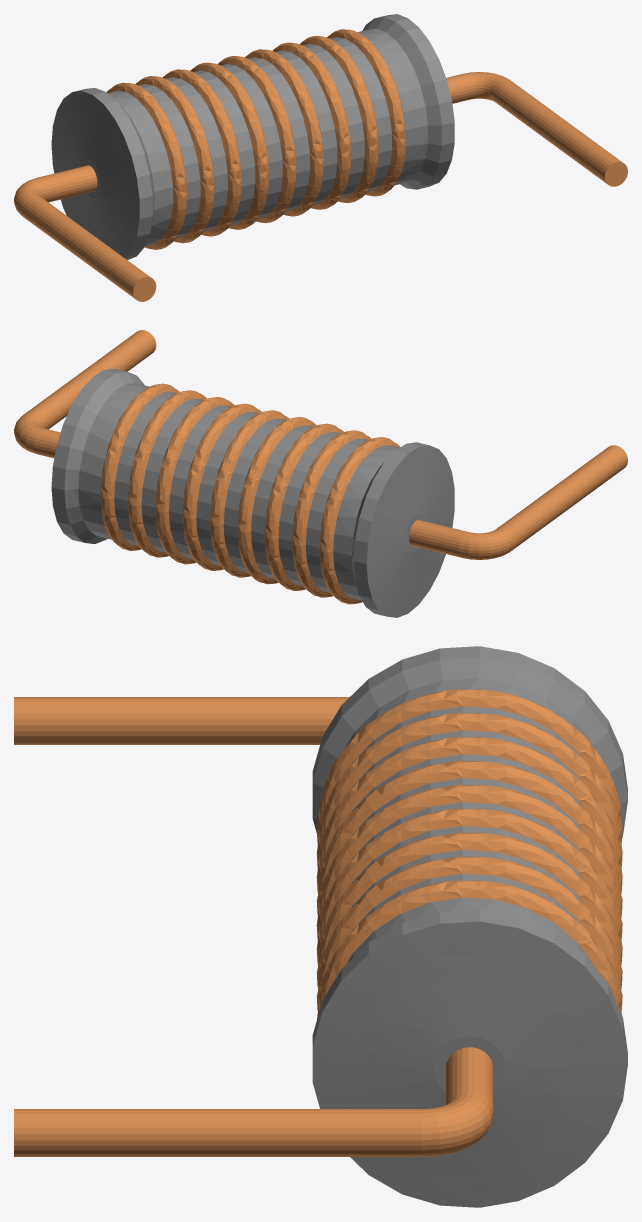
Rendered from L_Axial_L7.0mm_D3.3mm_P10.16mm_Horizontal_Fastron_MICC.glb.
The picture shows the model from 3 angles, top to bottom: view 1: azimuth 30°, elevation 25°; view 2: azimuth 150°, elevation 25°; view 3: azimuth 270°, elevation 25°; orthographic projection. The views are drawn at different scales.
Visible parts, largest first — view 1: Shape_IndexedFaceSet.029, Shape_IndexedFaceSet.008, Shape_IndexedFaceSet.033, Shape_IndexedFaceSet.005, Shape_IndexedFaceSet.026, Shape_IndexedFaceSet.003, Shape_IndexedFaceSet.011, Shape_IndexedFaceSet.017, Shape_IndexedFaceSet.019, Shape_IndexedFaceSet.023, Shape_IndexedFaceSet.007, Shape_IndexedFaceSet.025 (+19 smaller); view 2: Shape_IndexedFaceSet.029, Shape_IndexedFaceSet.033, Shape_IndexedFaceSet.005, Shape_IndexedFaceSet.026, Shape_IndexedFaceSet.008, Shape_IndexedFaceSet.003, Shape_IndexedFaceSet.025, Shape_IndexedFaceSet.019, Shape_IndexedFaceSet.021, Shape_IndexedFaceSet.007, Shape_IndexedFaceSet.015, Shape_IndexedFaceSet.013 (+17 smaller); view 3: Shape_IndexedFaceSet, Shape_IndexedFaceSet.008, Shape_IndexedFaceSet.033, Shape_IndexedFaceSet.027, Shape_IndexedFaceSet.023, Shape_IndexedFaceSet.025, Shape_IndexedFaceSet.011, Shape_IndexedFaceSet.013, Shape_IndexedFaceSet.021, Shape_IndexedFaceSet.015, Shape_IndexedFaceSet.017, Shape_IndexedFaceSet.019 (+16 smaller).
Boxes of the visible parts, x1,y1,x2,y2 form: Shape_IndexedFaceSet.029: (51, 91, 139, 257); Shape_IndexedFaceSet.008: (491, 78, 622, 183); Shape_IndexedFaceSet.033: (19, 193, 150, 299); Shape_IndexedFaceSet.005: (358, 28, 427, 185); Shape_IndexedFaceSet.026: (107, 90, 173, 246); Shape_IndexedFaceSet.003: (362, 17, 441, 189); Shape_IndexedFaceSet.011: (300, 36, 378, 202); Shape_IndexedFaceSet.017: (218, 56, 296, 223); Shape_IndexedFaceSet.019: (190, 62, 268, 229); Shape_IndexedFaceSet.023: (135, 76, 214, 243); Shape_IndexedFaceSet.007: (327, 29, 405, 196); Shape_IndexedFaceSet.025: (106, 82, 186, 249); Shape_IndexedFaceSet.029: (366, 445, 454, 617); Shape_IndexedFaceSet.033: (496, 445, 627, 550); Shape_IndexedFaceSet.005: (78, 383, 148, 539); Shape_IndexedFaceSet.026: (333, 445, 399, 600); Shape_IndexedFaceSet.008: (25, 330, 156, 429); Shape_IndexedFaceSet.003: (64, 371, 144, 543); Shape_IndexedFaceSet.025: (319, 437, 400, 604); Shape_IndexedFaceSet.019: (237, 417, 316, 584); Shape_IndexedFaceSet.021: (264, 423, 343, 590); Shape_IndexedFaceSet.007: (100, 383, 179, 550); Shape_IndexedFaceSet.015: (182, 403, 261, 570); Shape_IndexedFaceSet.013: (155, 397, 234, 564); Shape_IndexedFaceSet: (312, 921, 627, 1207); Shape_IndexedFaceSet.008: (14, 1109, 421, 1156); Shape_IndexedFaceSet.033: (14, 697, 349, 744); Shape_IndexedFaceSet.027: (312, 657, 627, 837); Shape_IndexedFaceSet.023: (316, 713, 622, 868); Shape_IndexedFaceSet.025: (316, 689, 622, 844); Shape_IndexedFaceSet.011: (316, 856, 622, 1011); Shape_IndexedFaceSet.013: (316, 832, 622, 989); Shape_IndexedFaceSet.021: (316, 737, 622, 893); Shape_IndexedFaceSet.015: (316, 808, 622, 965); Shape_IndexedFaceSet.017: (316, 785, 622, 940); Shape_IndexedFaceSet.019: (316, 761, 622, 917).
Bounding box in the file's own units: 4.2 × 1.3 × 2.52.
